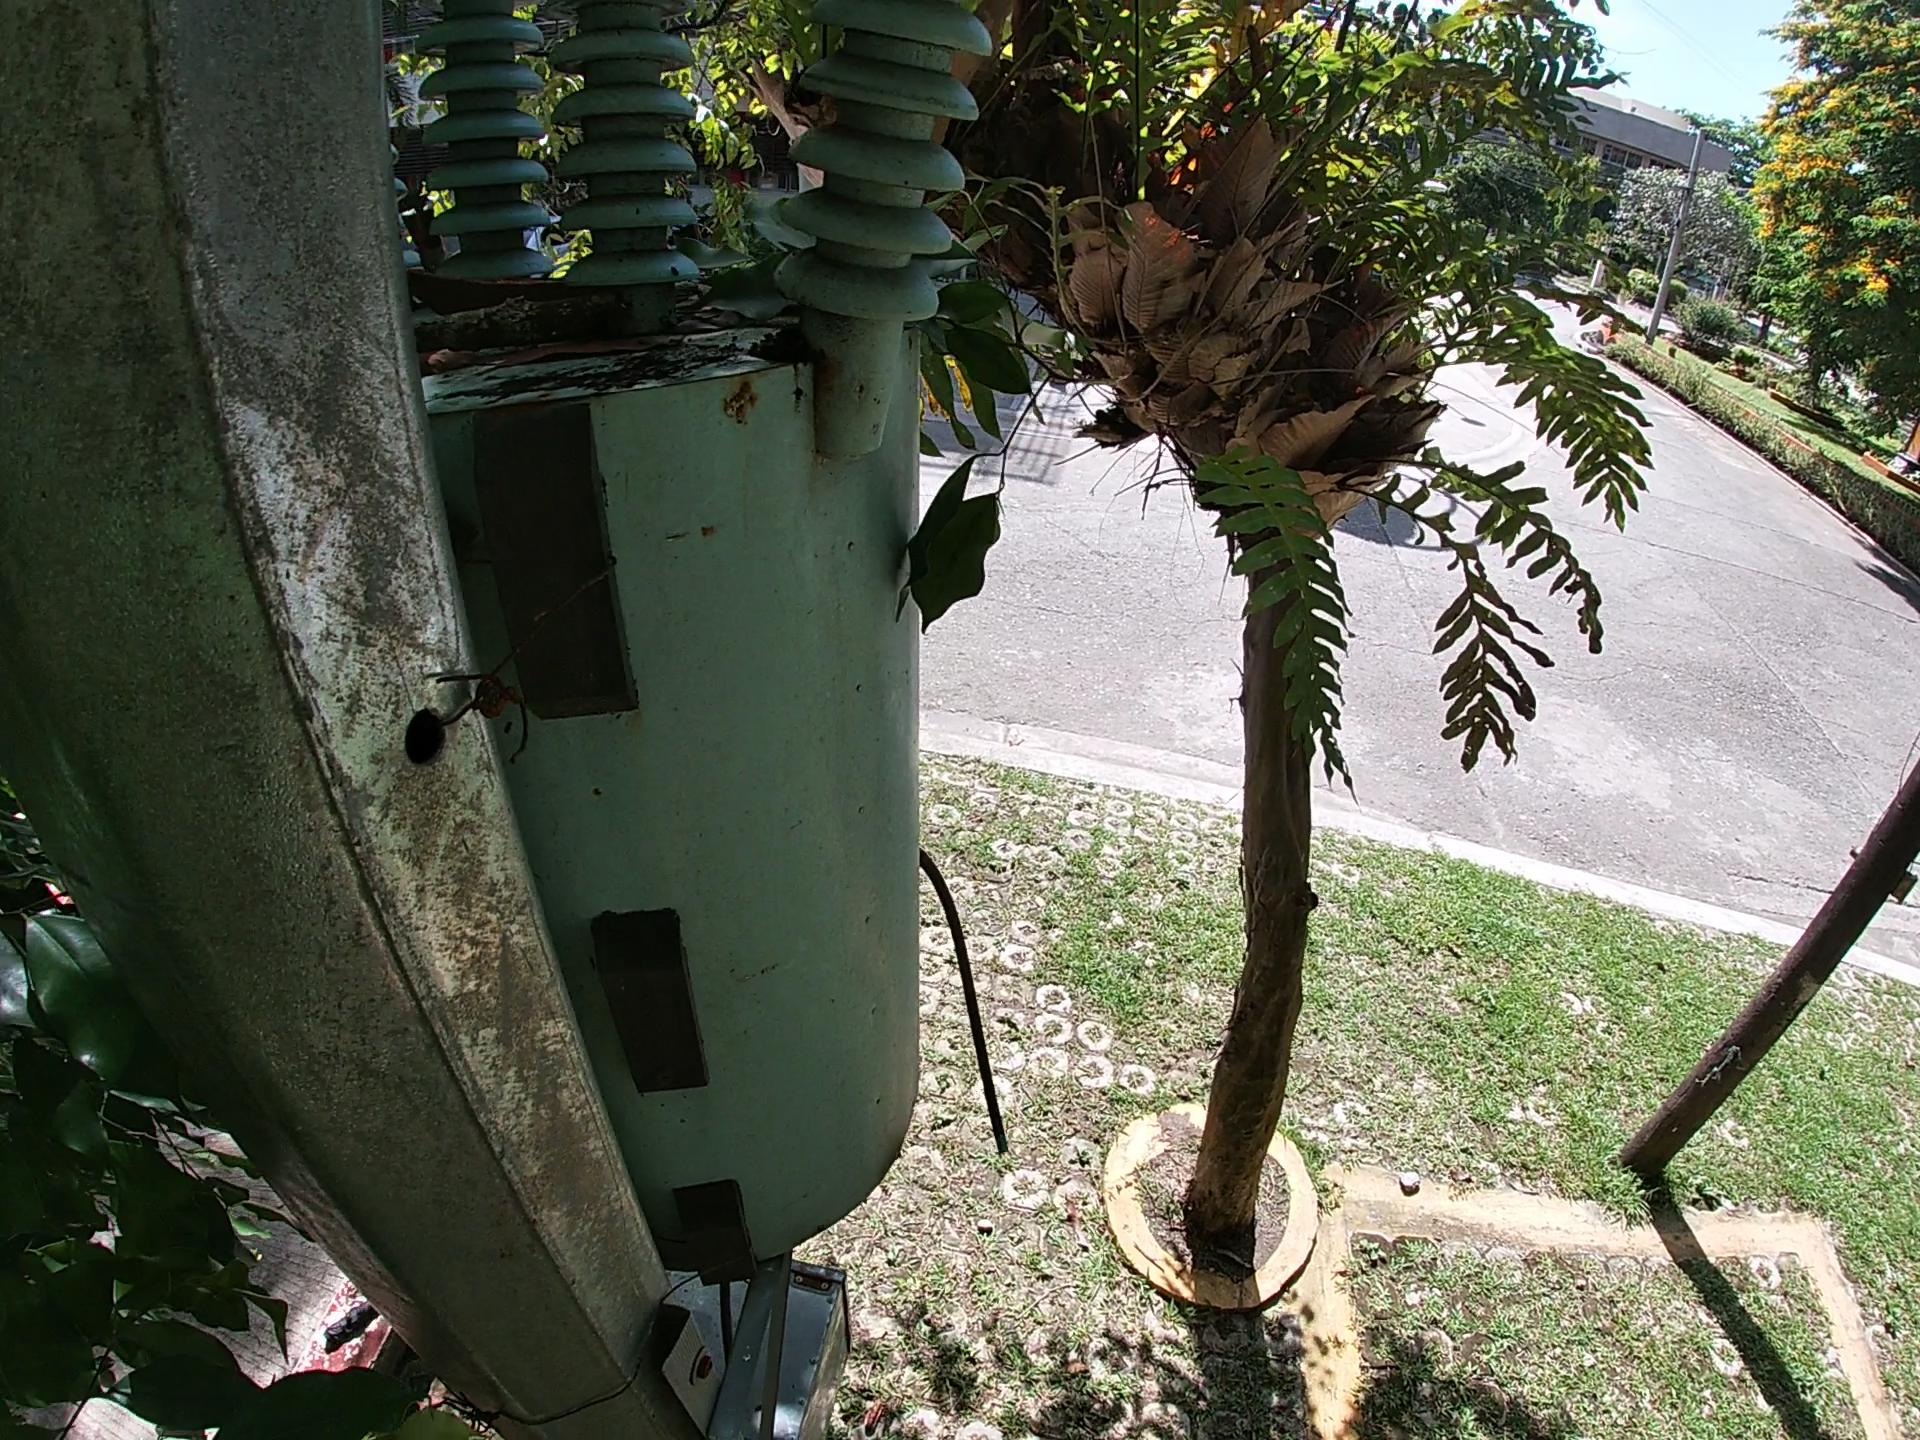branch with leaves: (890, 157, 1079, 669)
leaf: (685, 182, 813, 330), (408, 342, 664, 368)
mahogany fruit: (410, 262, 571, 295)
tree branch: (401, 303, 618, 334)
